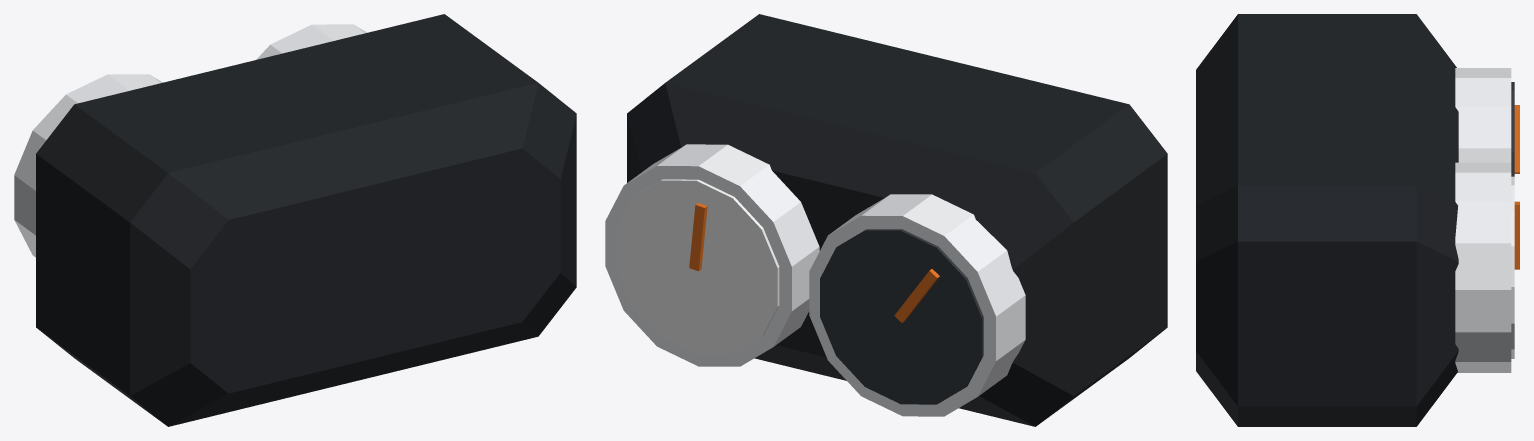
The model's file is kaze_gt.glb.
3 views of the same model, side by side, from view 1: azimuth 30°, elevation 25°; view 2: azimuth 150°, elevation 25°; view 3: azimuth 270°, elevation 25° (orthographic). The views are drawn at different scales.
Visible parts, largest first — view 1: model; view 2: model; view 3: model.
Part boxes in pixels (left/top/right/bottom): model: left=14, top=14, right=576, bottom=426; model: left=605, top=14, right=1167, bottom=426; model: left=1196, top=14, right=1519, bottom=426.
Size of the model in its own units: 0.14 by 0.076 by 0.0925.
Materials: 2 (1 with a texture image).
